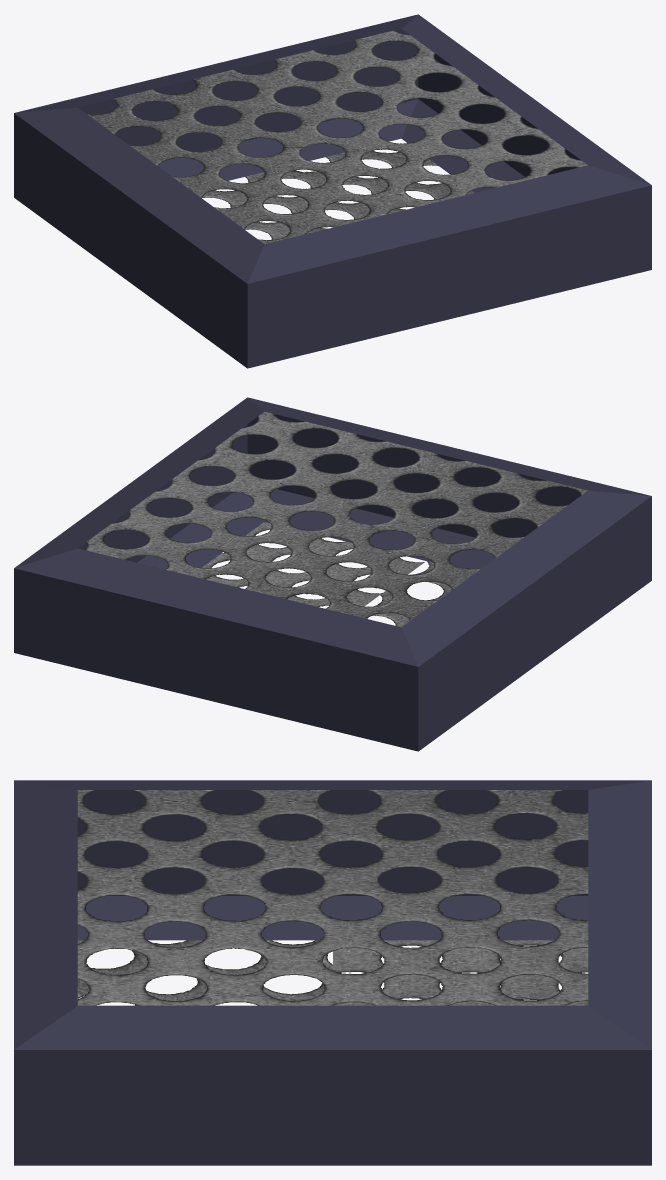
Rendered from Main Tile.FBX.
The picture shows the model from 3 angles, top to bottom: view 1: azimuth 30°, elevation 25°; view 2: azimuth 150°, elevation 25°; view 3: azimuth 270°, elevation 25°; orthographic projection. The views are drawn at different scales.
Parts seen in each view (by area): view 1: Box001; view 2: Box001; view 3: Box001.
Part boxes in pixels (x1,y1,x2,y2): Box001: (14,14,651,368); Box001: (14,397,651,751); Box001: (14,780,651,1165).
Bounding box in the file's own units: 50 × 50 × 13.
Materials: 1 (1 with a texture image).
